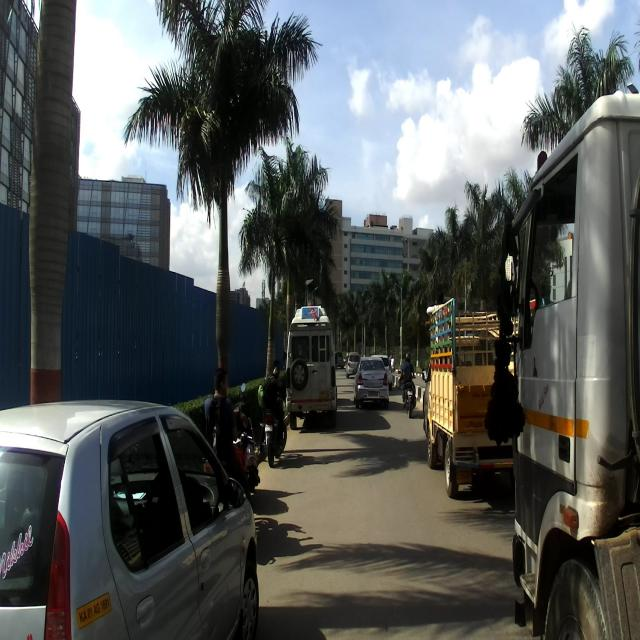Car_TATA: (0, 397, 258, 638)
Car_Toyota: (351, 356, 389, 409)
mini-bus: (284, 305, 337, 429)
motorcycle_Honda: (260, 382, 289, 466)
truck: (483, 83, 639, 639), (422, 297, 520, 497)
